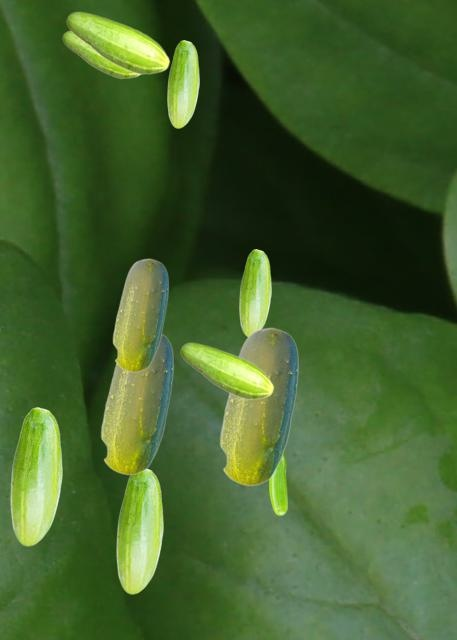cucumber: (219, 327, 297, 485), (100, 334, 172, 474), (10, 407, 61, 545), (66, 11, 169, 74), (112, 258, 167, 371), (116, 469, 162, 593), (180, 342, 273, 399), (62, 30, 140, 78), (239, 249, 270, 336), (167, 40, 198, 127), (269, 450, 286, 514)
